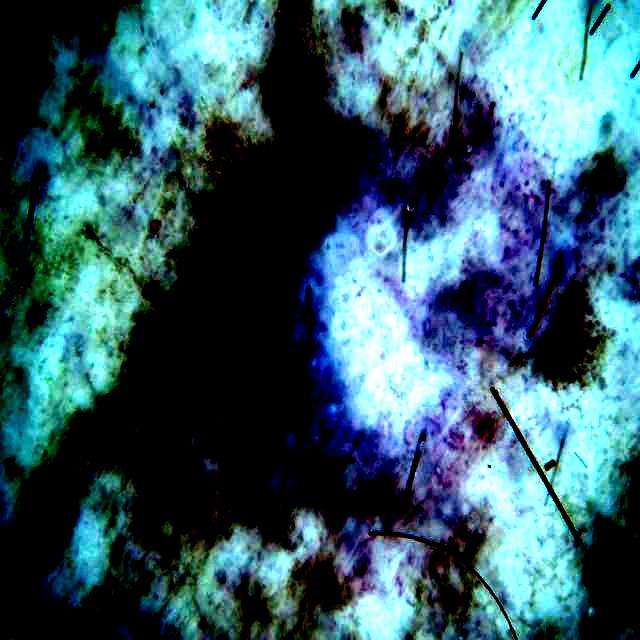AKIEC: (268, 70, 597, 638), (82, 3, 325, 543)
